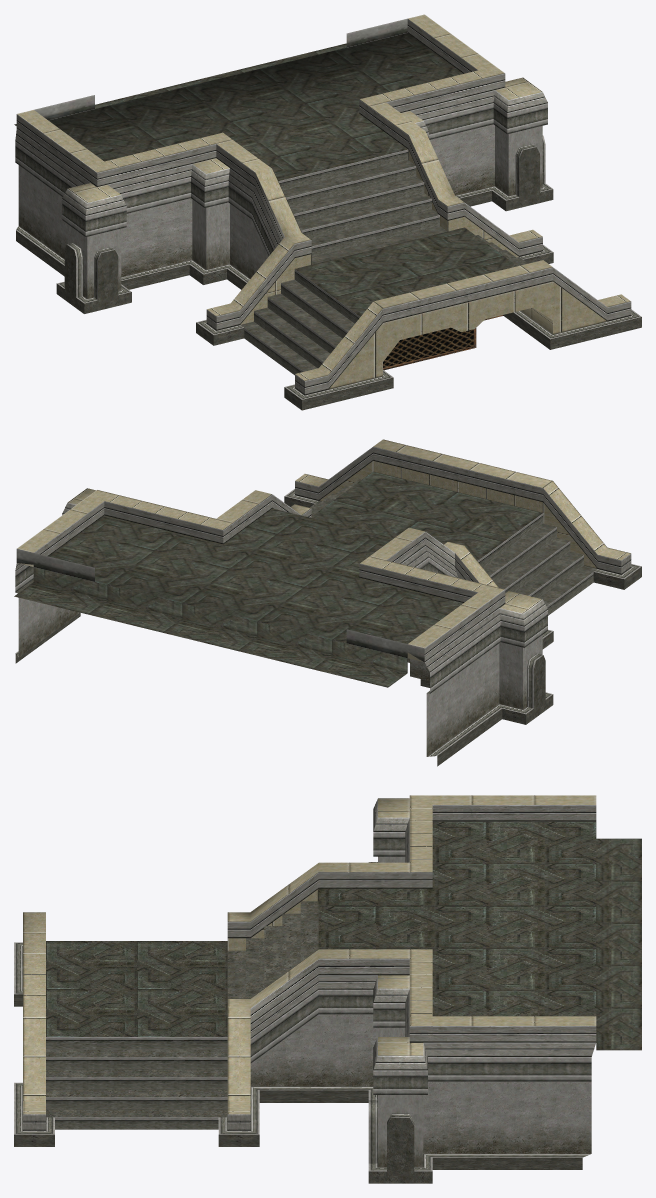
File: MAINHALL_DOOR_STAIRCASE.fbx
3 views of the same model, one above another, from view 1: azimuth 30°, elevation 25°; view 2: azimuth 150°, elevation 25°; view 3: azimuth 270°, elevation 25° (orthographic). The views are drawn at different scales.
Visible parts, largest first — view 1: MAINHALL_DOOR_STAIRCASE; view 2: MAINHALL_DOOR_STAIRCASE; view 3: MAINHALL_DOOR_STAIRCASE.
Part boxes in pixels (bbox=[...]): MAINHALL_DOOR_STAIRCASE: bbox=[14, 14, 641, 410]; MAINHALL_DOOR_STAIRCASE: bbox=[14, 439, 641, 766]; MAINHALL_DOOR_STAIRCASE: bbox=[14, 795, 641, 1183].
Size of the model in its own units: 138000 by 41129 by 138052.
Materials: 13 (13 with a texture image).
